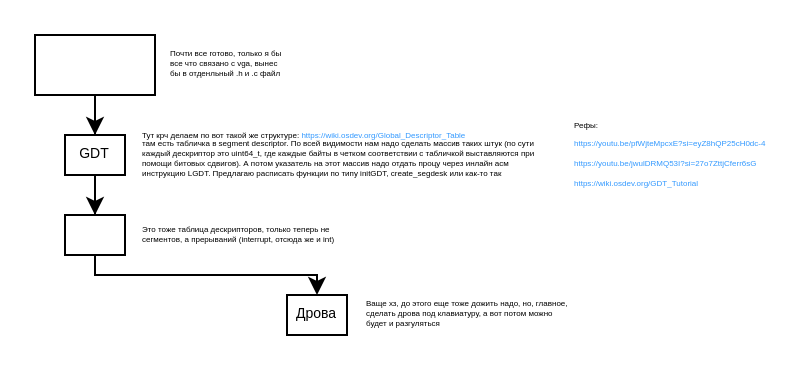
This 802x370 diagram has some shape labels left out. The centre of each missing label's shape, as x and y in pixels:
"boot & kernel + vga" goes at point (94, 64).
"IDT" goes at point (94, 234).
